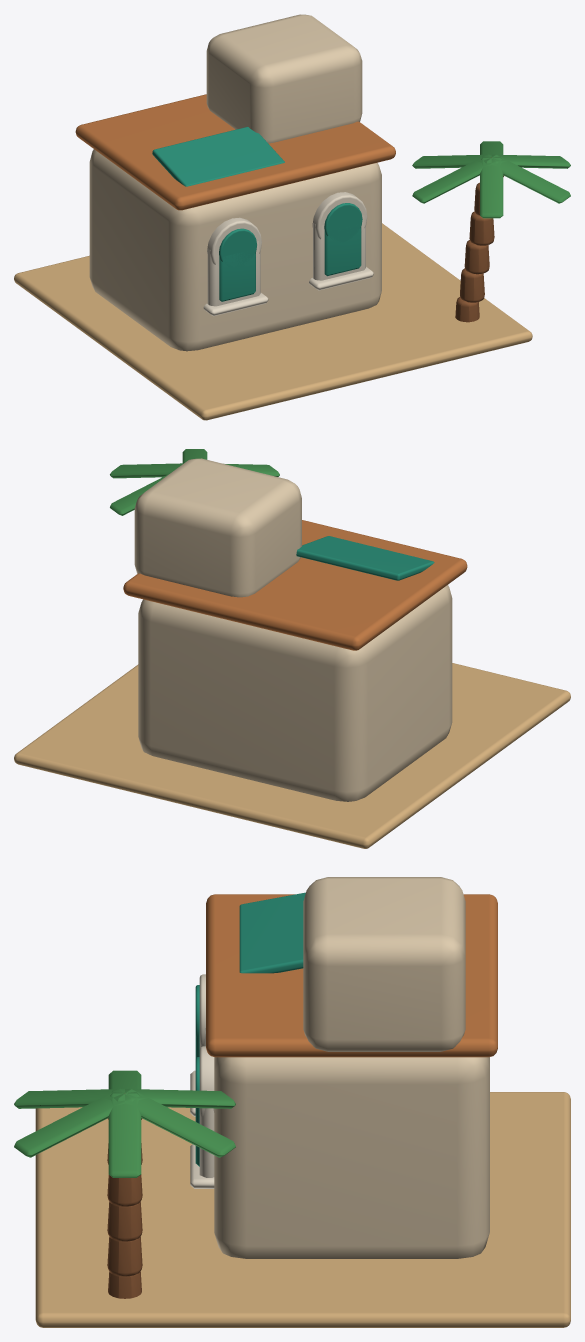
The picture shows the model from 3 angles, top to bottom: view 1: azimuth 30°, elevation 25°; view 2: azimuth 150°, elevation 25°; view 3: azimuth 270°, elevation 25°; orthographic projection. The views are drawn at different scales.
Visible parts, largest first — view 1: Cube; view 2: Cube; view 3: Cube.
Part boxes in pixels (box(x1,y1,x2,y2)): Cube: box(14, 14, 570, 420); Cube: box(14, 449, 570, 848); Cube: box(14, 877, 570, 1327).
Size of the model in its own units: 0.7877 by 0.46 by 0.6869.
